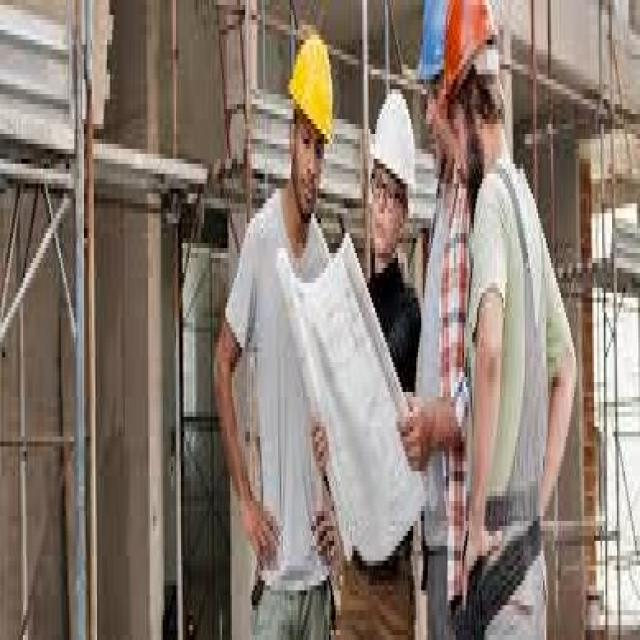Safety-Helmet: (364, 74, 421, 208), (284, 25, 340, 159), (441, 0, 503, 109)
